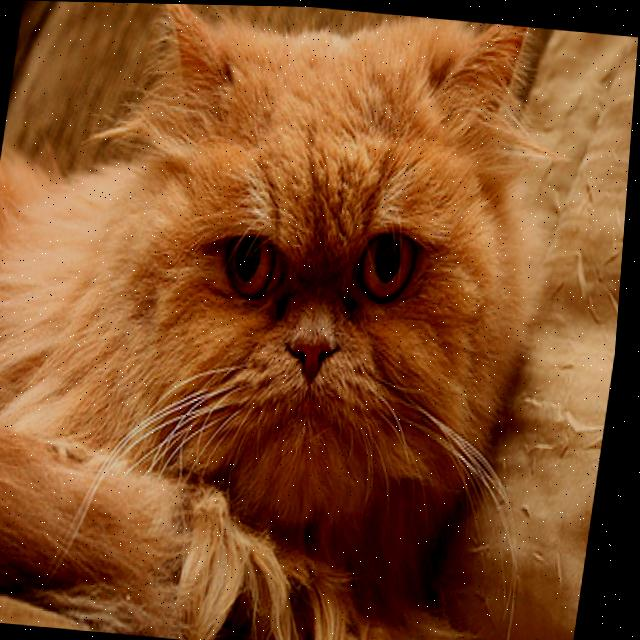Persian: (0, 0, 573, 640)
